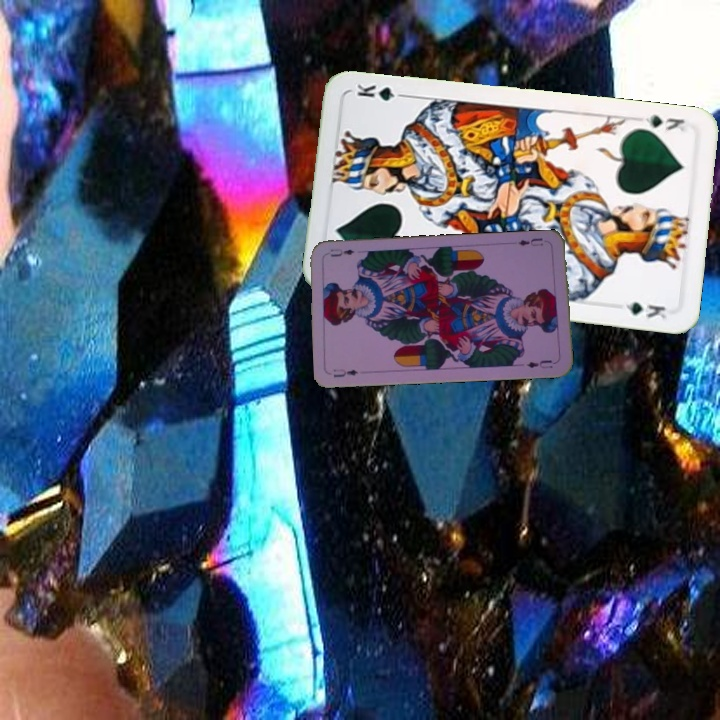EU: (514, 234, 545, 249), (329, 365, 360, 380)
GK: (641, 111, 687, 134)
